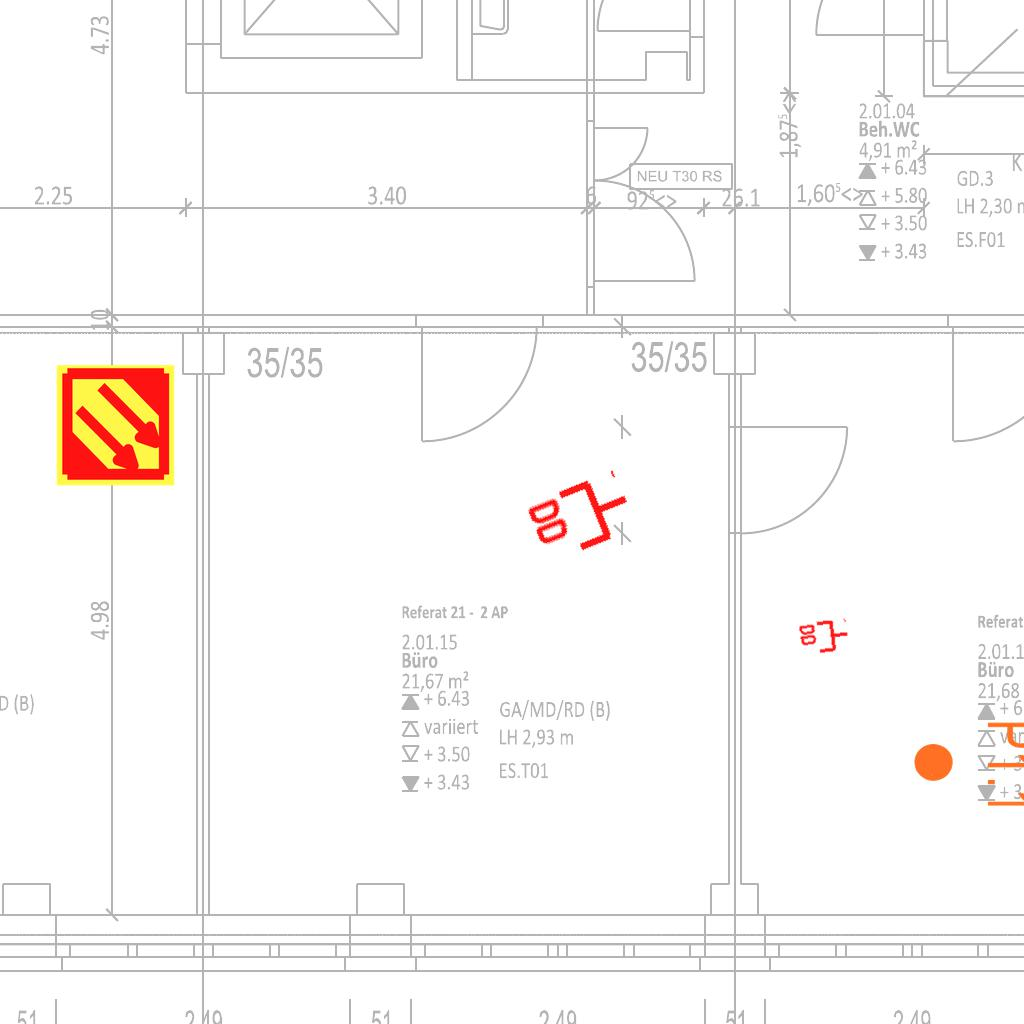ASR_Ansaugrauchmelder: (53, 363, 178, 488)
Datenanschluss_zweifach: (520, 467, 643, 570), (796, 617, 852, 658)
Downlight_LED_Einbauleuchten_Flur: (911, 719, 1024, 812)
